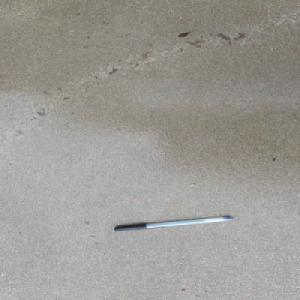Pen: (112, 215, 233, 231)
